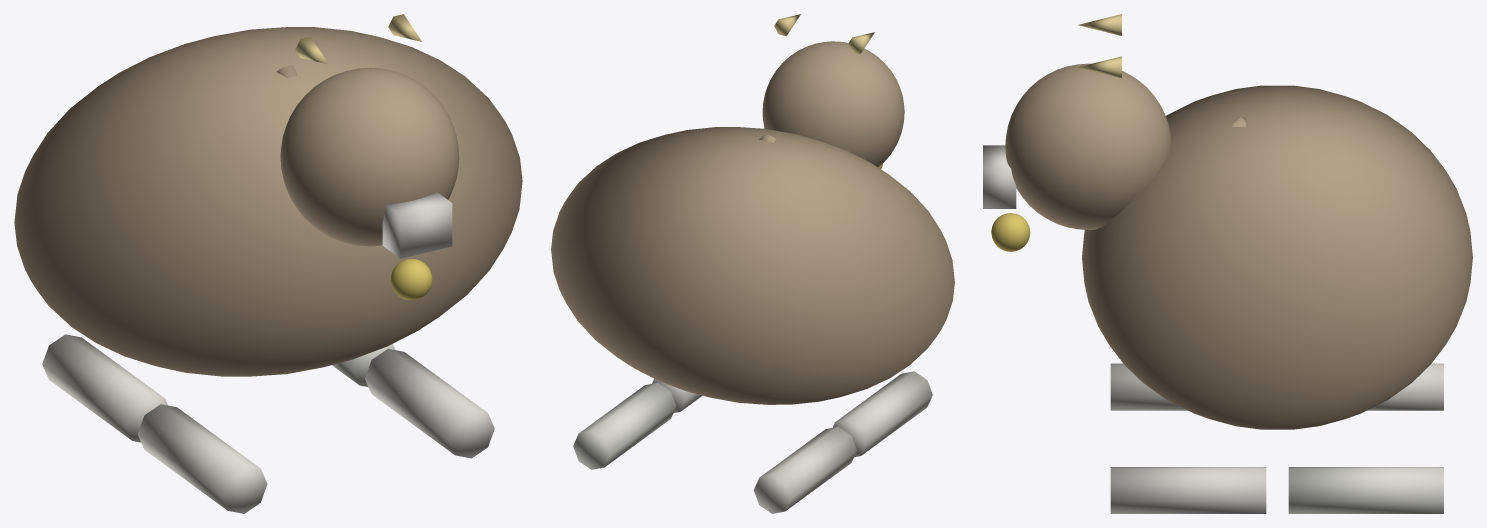
Rendered from animal_cow_brown.glb.
The picture shows the model from 3 angles, left to right: view 1: azimuth 30°, elevation 25°; view 2: azimuth 150°, elevation 25°; view 3: azimuth 270°, elevation 25°; orthographic projection. The views are drawn at different scales.
Parts seen in each view (by area): view 1: body, head, leg-1_1, leg1_1, leg-1_-1, snout, bell, leg1_-1; view 2: body, head, leg1_-1, leg-1_-1, leg-1_1, leg1_1; view 3: body, head, leg1_1, leg1_-1, leg-1_1, leg-1_-1, snout, bell.
Part boxes in pixels (box(x1,y1,x2,y2)): body: box(14, 27, 522, 376); head: box(280, 67, 459, 246); leg-1_1: box(137, 404, 267, 513); leg1_1: box(365, 349, 494, 458); leg-1_-1: box(42, 334, 168, 442); snout: box(382, 192, 452, 258); bell: box(390, 258, 432, 300); leg1_-1: box(332, 344, 395, 387); body: box(551, 127, 954, 404); head: box(762, 41, 904, 167); leg1_-1: box(573, 382, 676, 469); leg-1_-1: box(754, 426, 856, 513); leg-1_1: box(832, 371, 932, 457); leg1_1: box(652, 378, 701, 412); body: box(1082, 85, 1472, 429); head: box(1005, 63, 1171, 229); leg1_1: box(1110, 467, 1266, 513); leg1_-1: box(1288, 467, 1443, 513); leg-1_1: box(1110, 363, 1187, 410); leg-1_-1: box(1367, 363, 1443, 410); snout: box(983, 145, 1016, 208); bell: box(991, 213, 1030, 251).
Size of the model in its own units: 0.896 by 0.8423 by 0.882.
